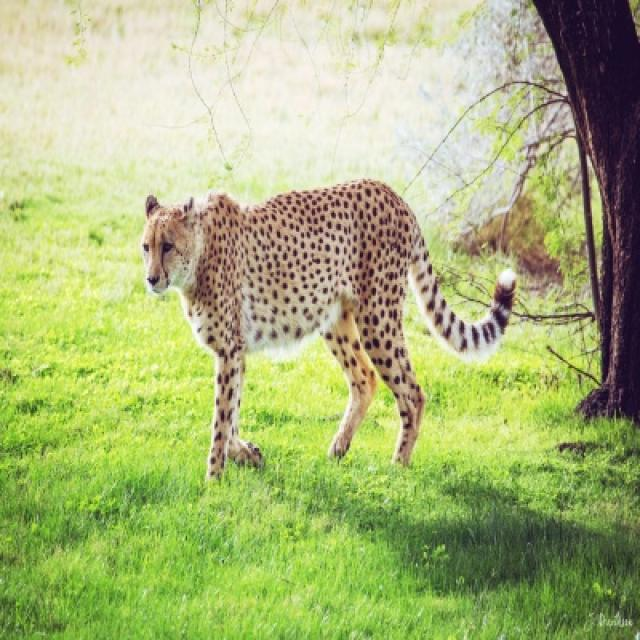Cheetah: (138, 190, 519, 492)
